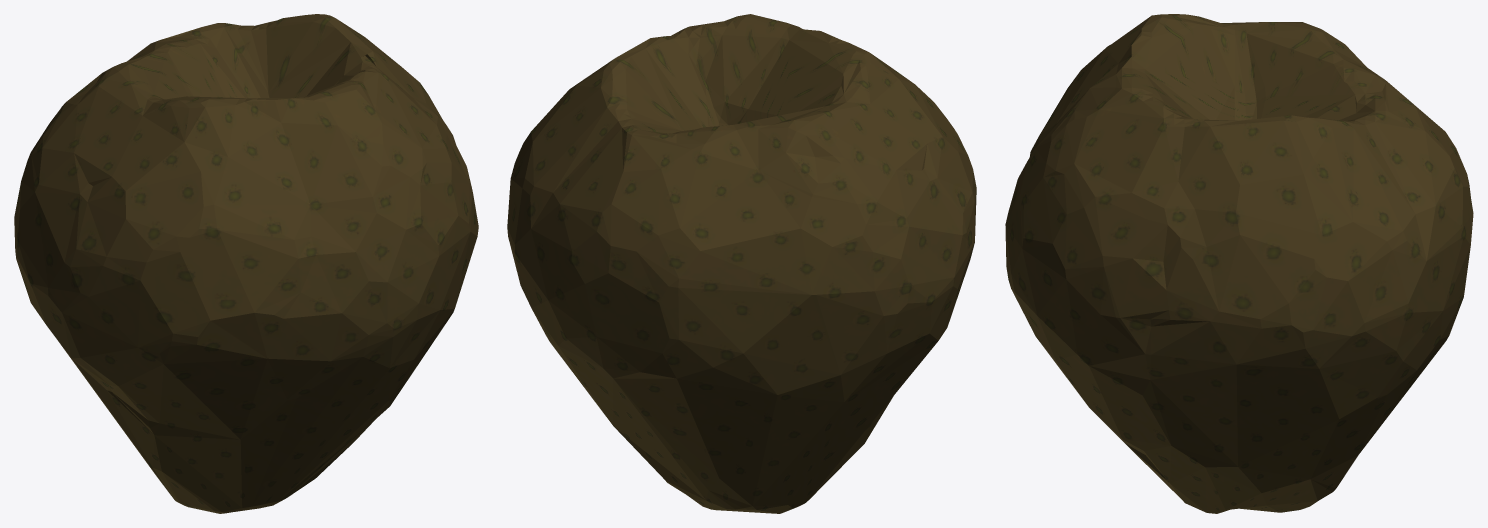
The picture shows the model from 3 angles, left to right: view 1: azimuth 30°, elevation 25°; view 2: azimuth 150°, elevation 25°; view 3: azimuth 270°, elevation 25°; orthographic projection. The views are drawn at different scales.
Parts seen in each view (by area): view 1: _004_Meshed; view 2: _004_Meshed; view 3: _004_Meshed.
Part boxes in pixels (x1=…): _004_Meshed: x1=14, y1=14, x2=478, y2=513; _004_Meshed: x1=507, y1=14, x2=976, y2=513; _004_Meshed: x1=1005, y1=14, x2=1473, y2=513.
Bounding box in the file's own units: 0.1098 × 0.1046 × 0.1135.
Materials: 1 (1 with a texture image).
